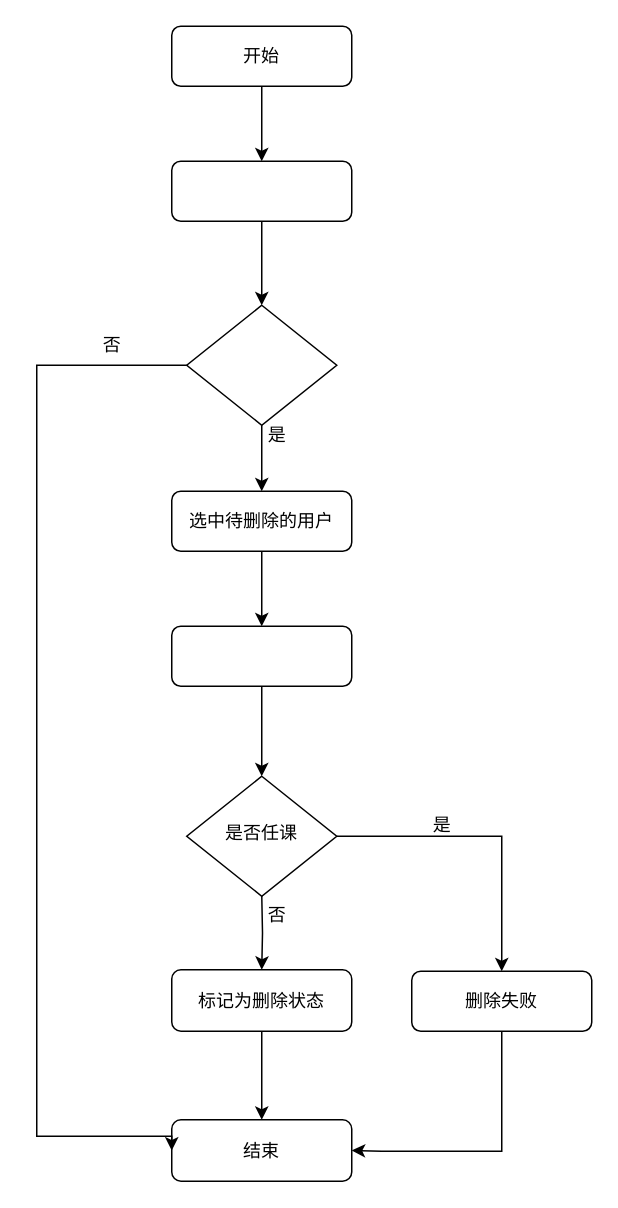
The diagram is 618 pixels wide and 1208 high, and some of its shapes have lost their labels. The box of each missing label's shape, as (x1, y1, x2, y2) in pixels:
展示所有用户: (170, 160, 352, 221)
是否删除？: (185, 304, 337, 425)
点击删除: (170, 625, 352, 686)
